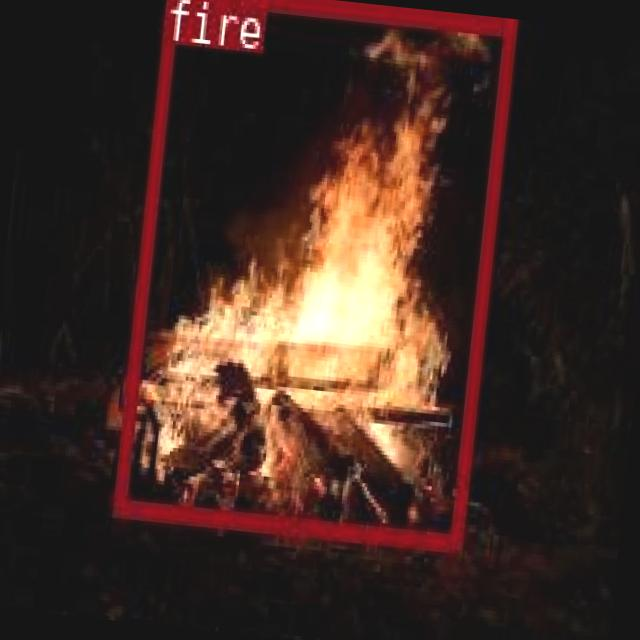fire: (111, 0, 514, 546)
